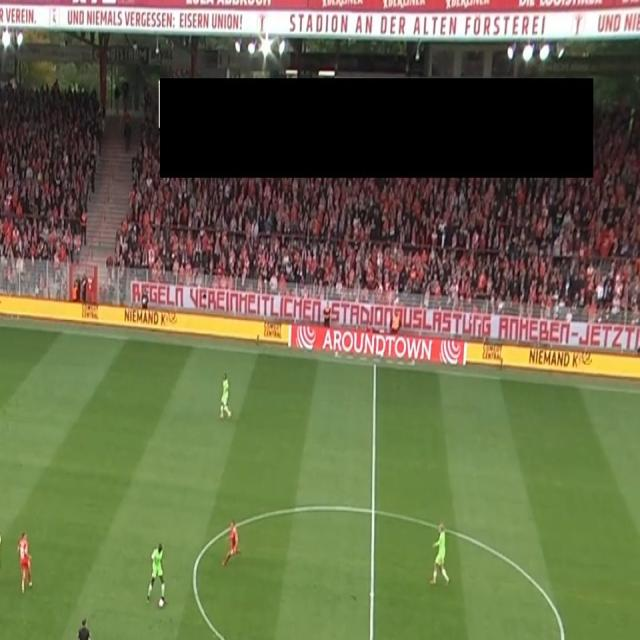ball: (158, 597, 165, 609)
